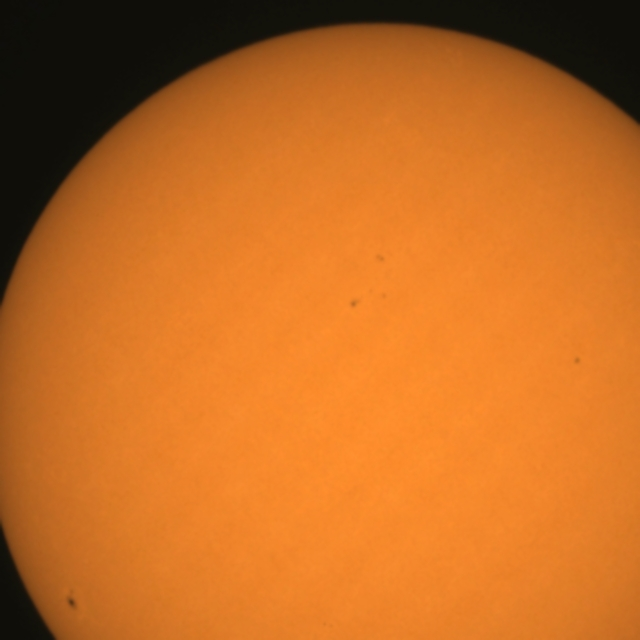sunspot: (348, 286, 388, 312), (64, 588, 79, 613), (372, 251, 388, 266), (348, 296, 362, 311), (572, 355, 583, 368)
